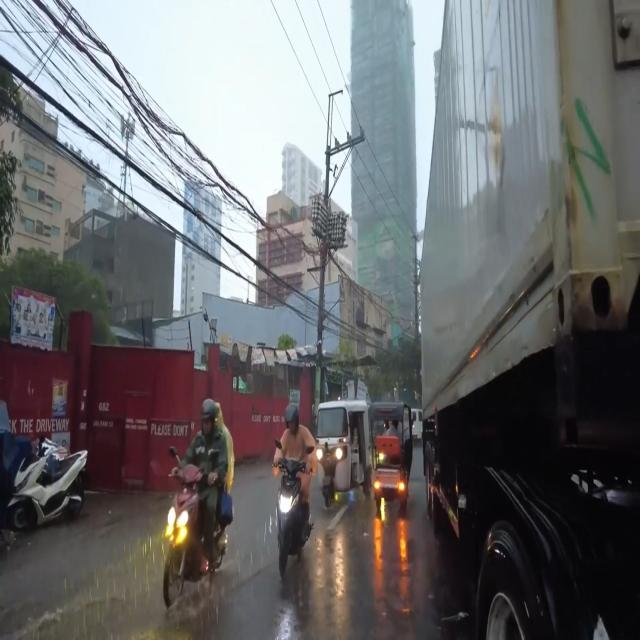half: (198, 398, 217, 439), (285, 403, 300, 431)
